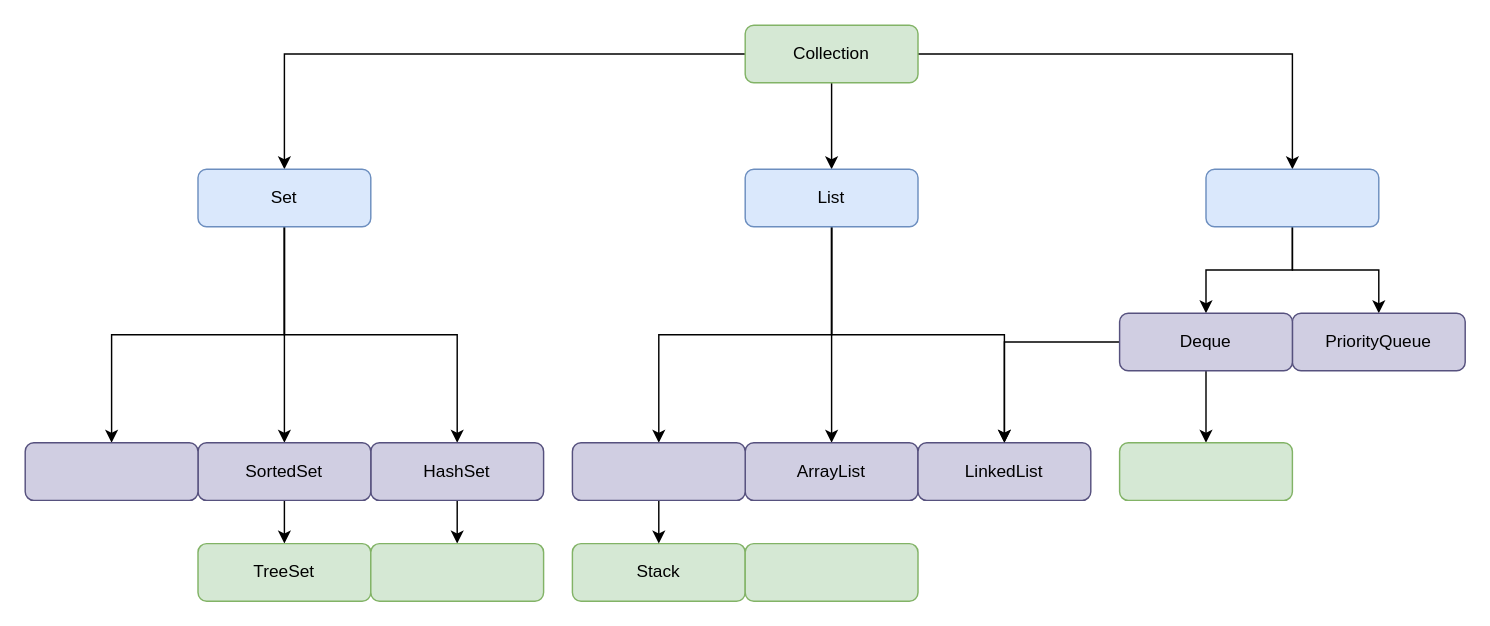
Some shapes in this 1490 by 626 pixel diagram are drawn without their labels. Here are the shapes that lost their labels. From the top down, the centre of each, then its label:
pixel 1292 197: Queue
pixel 111 470: EnumSet
pixel 658 470: Vector
pixel 1205 470: ArrayQueue
pixel 456 571: LinkedHashSet
pixel 831 571: AttributeList
